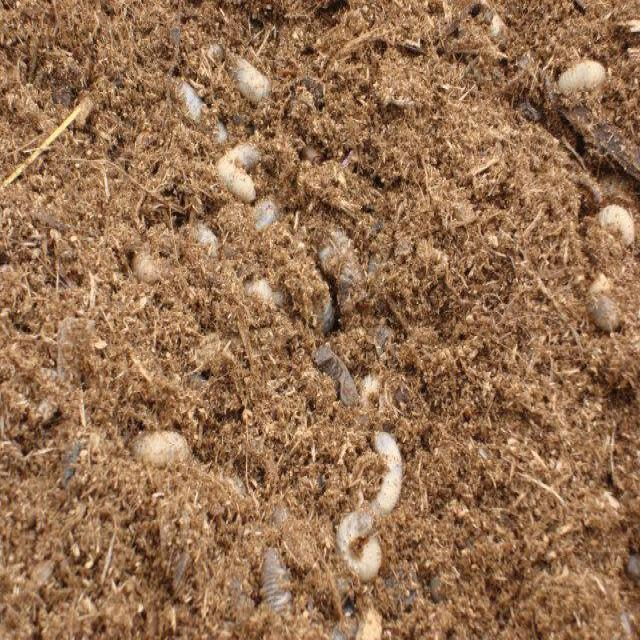Grub-Adult-: (333, 426, 411, 579), (122, 413, 220, 488), (208, 34, 284, 107), (538, 49, 605, 104), (211, 141, 261, 210), (598, 185, 633, 251)
